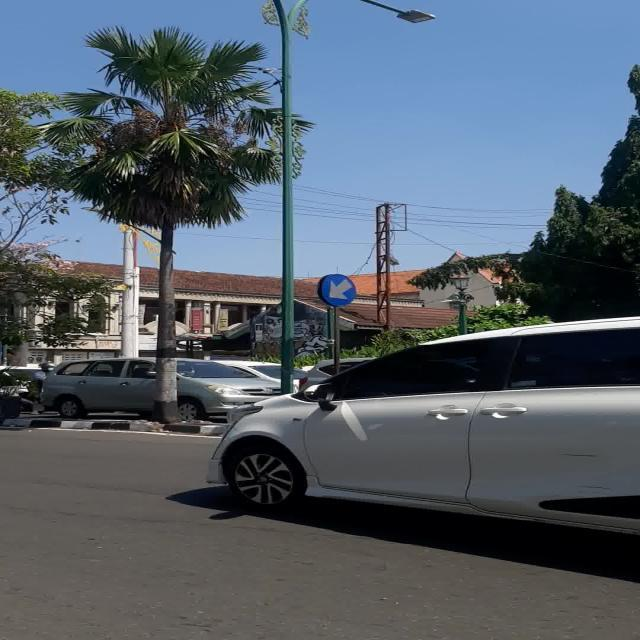Lajur Kiri: (321, 274, 356, 307)
